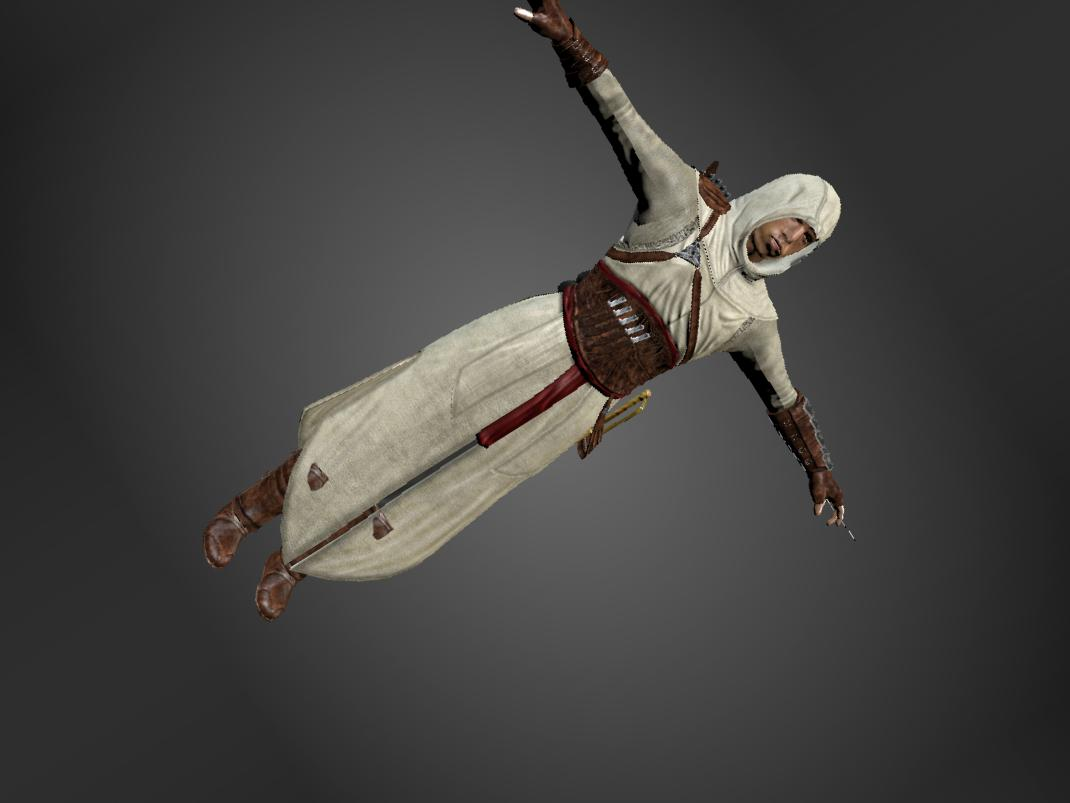clip: (371, 508, 400, 545), (305, 462, 335, 495)
